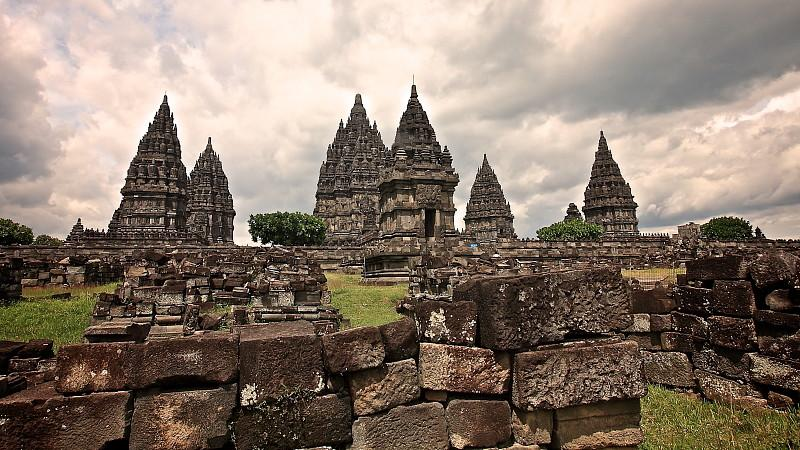temple: (65, 90, 237, 247), (313, 73, 461, 248), (313, 92, 389, 244), (581, 129, 640, 235), (463, 153, 517, 243)
